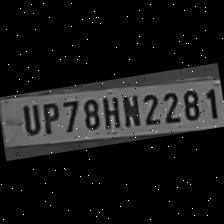1: (198, 83, 223, 122)
2: (137, 90, 163, 128), (156, 88, 182, 126)
7: (56, 97, 82, 136)
8: (77, 94, 103, 132), (176, 85, 202, 122)
H: (97, 92, 123, 130)
N: (117, 92, 141, 130)
P: (36, 99, 62, 137)
U: (16, 100, 43, 138)
